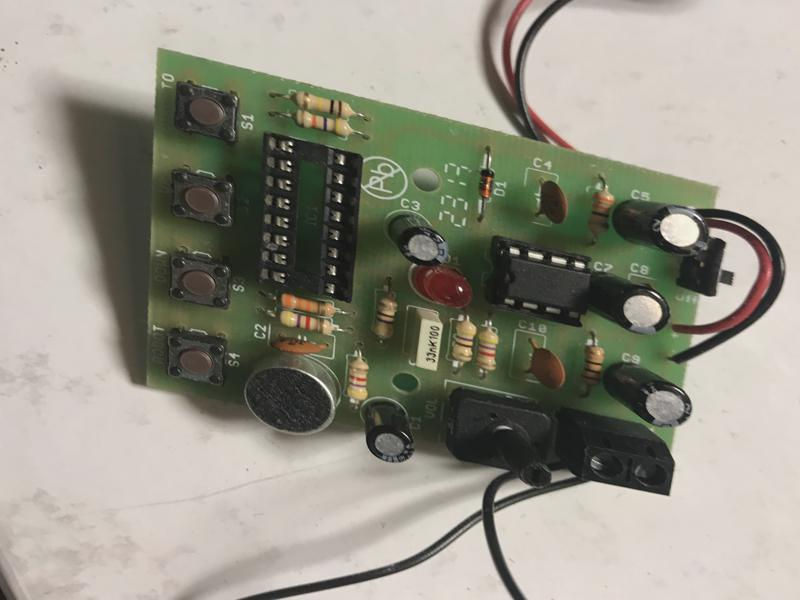Capacitor: (601, 358, 696, 431), (611, 194, 711, 261), (584, 267, 673, 340), (382, 206, 452, 269), (359, 396, 416, 466)
Diode: (476, 164, 497, 205)
LED: (407, 261, 480, 309)
Resistor: (287, 86, 355, 120), (288, 108, 356, 139), (274, 291, 339, 319), (274, 309, 338, 337), (586, 184, 616, 239), (579, 341, 608, 394), (342, 351, 369, 407), (449, 317, 477, 371), (371, 293, 400, 344), (473, 326, 501, 373)
